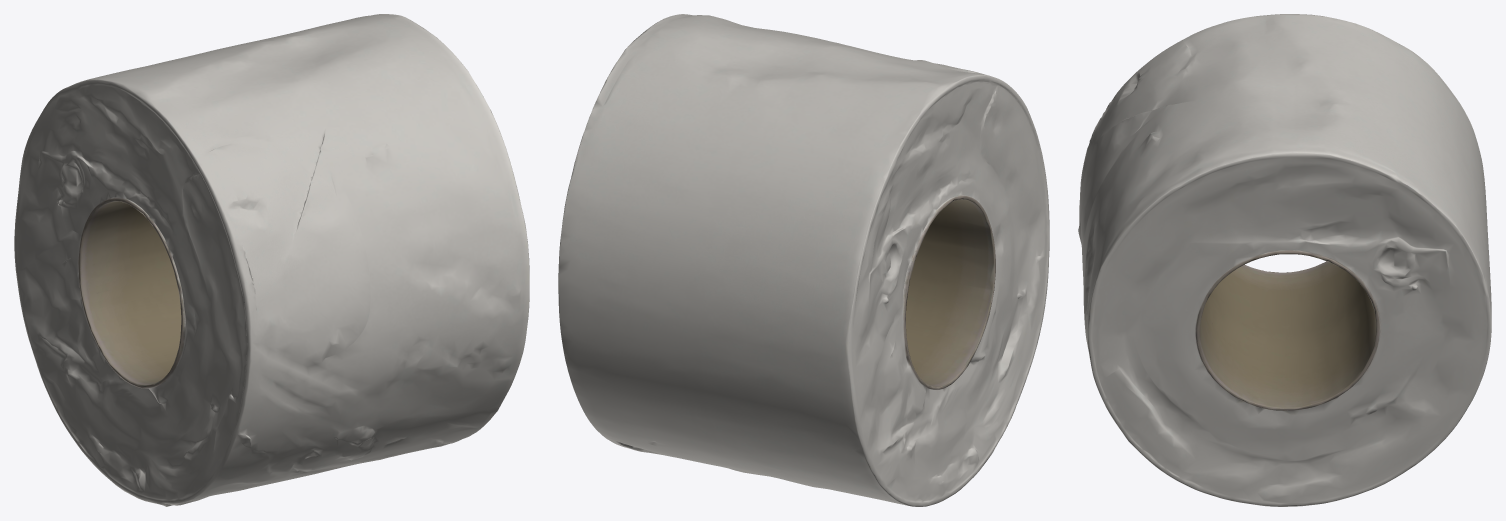
File: toilet_paper_roll_3d_model.fbx
3 renders of one model, left to right at view 1: azimuth 30°, elevation 25°; view 2: azimuth 150°, elevation 25°; view 3: azimuth 270°, elevation 25°, orthographic. The views are drawn at different scales.
Visible parts, largest first — view 1: tripo_node_9f27e2e2; view 2: tripo_node_9f27e2e2; view 3: tripo_node_9f27e2e2.
Part boxes in pixels (box(x1,y1,x2,y2)): tripo_node_9f27e2e2: box(14, 14, 529, 506); tripo_node_9f27e2e2: box(558, 14, 1049, 506); tripo_node_9f27e2e2: box(1078, 14, 1491, 506).
Size of the model in its own units: 0.8032 by 0.9794 by 0.9778.
